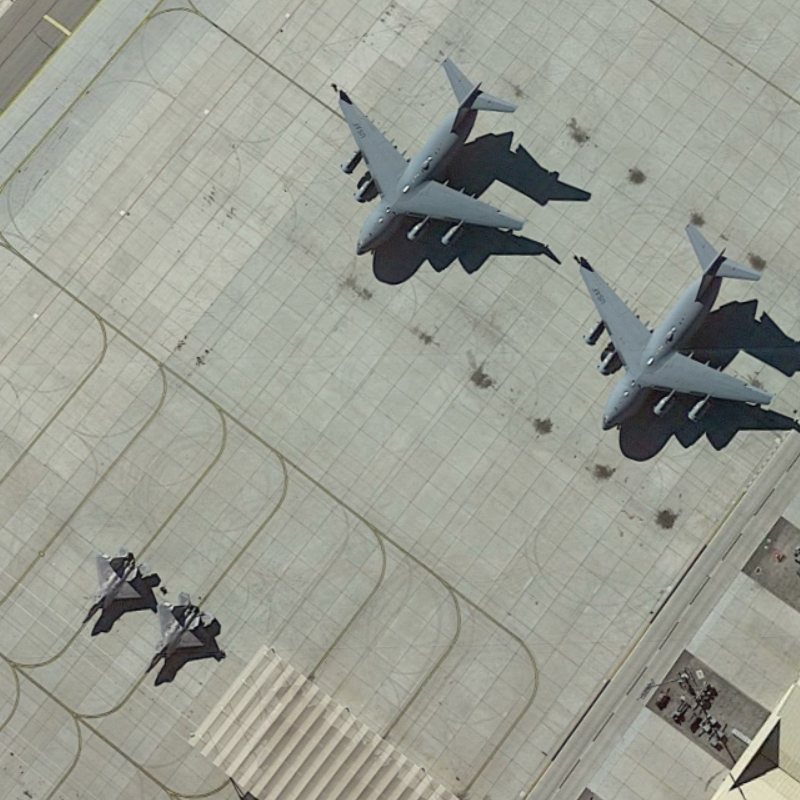A15: (75, 540, 155, 630), (144, 594, 220, 677)
A3: (565, 215, 785, 444), (327, 55, 529, 272)
